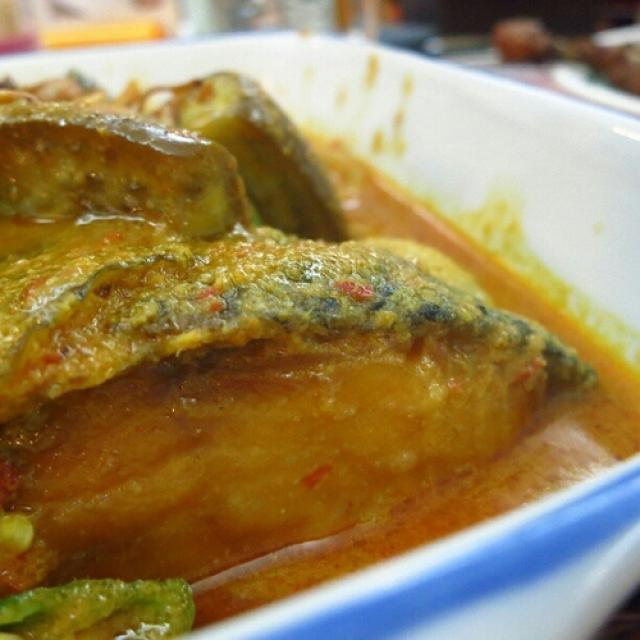熟制海鲜: (16, 21, 610, 624)
